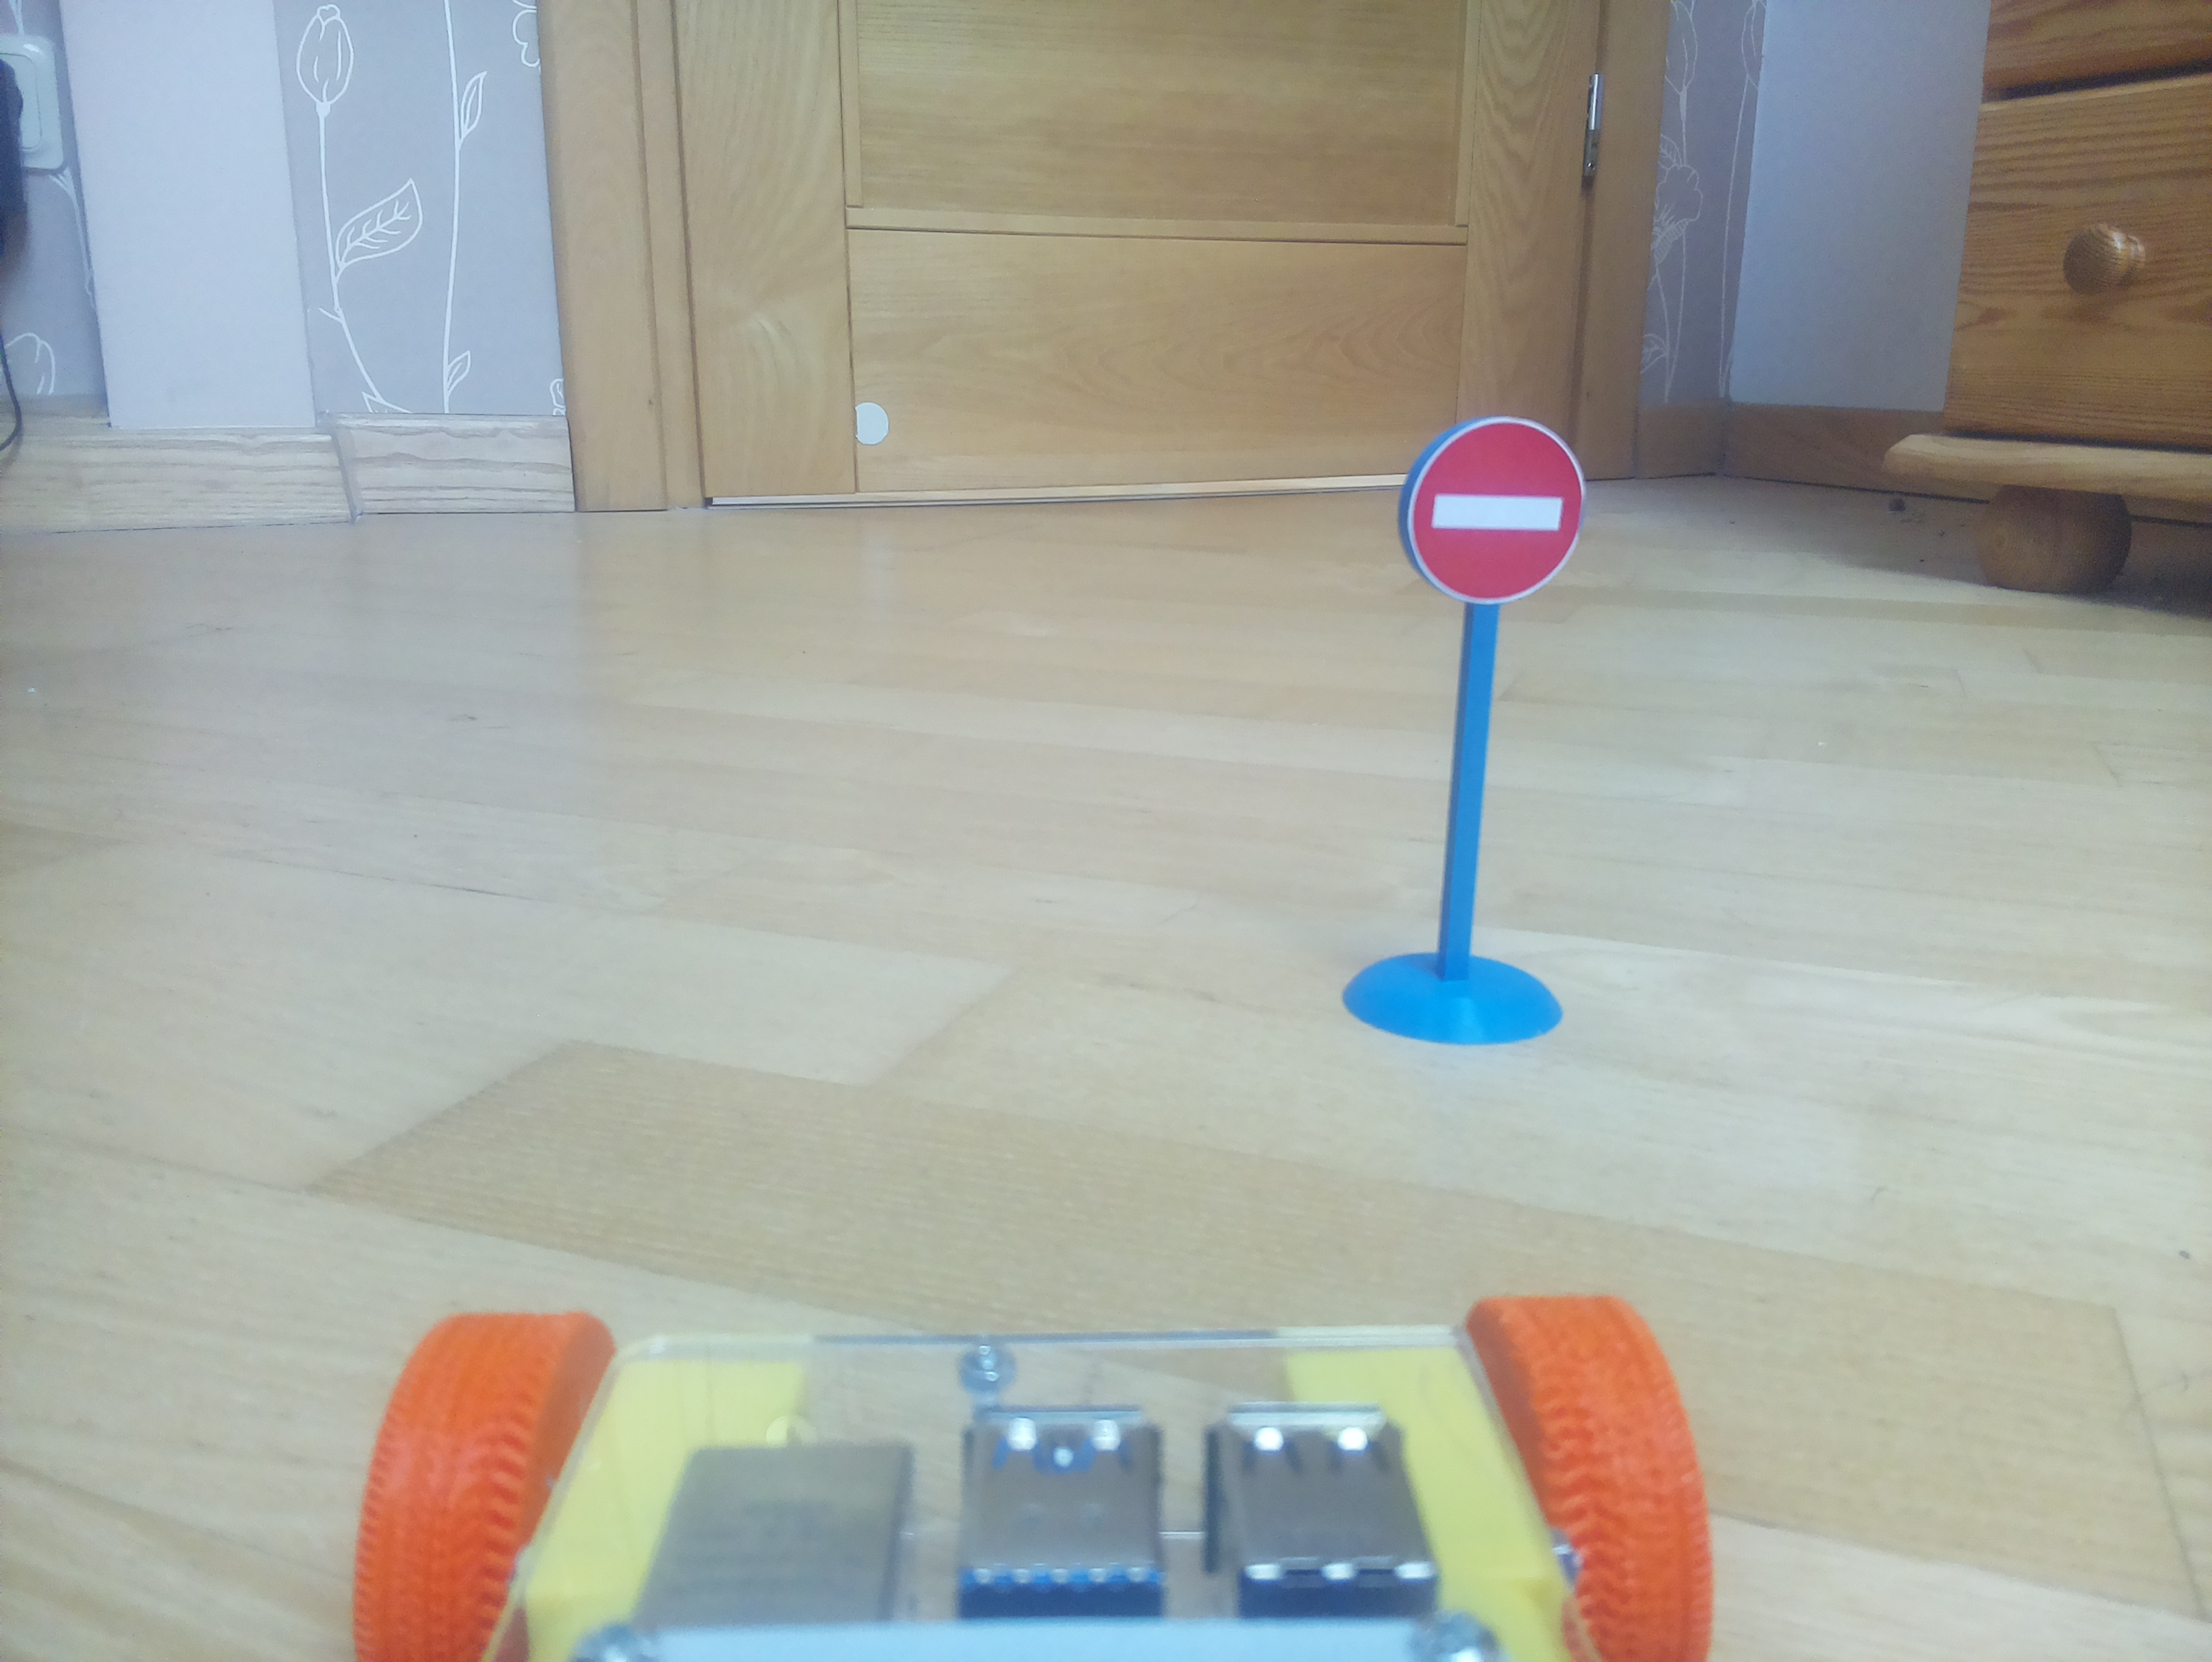brick: (1407, 416, 1585, 605)
